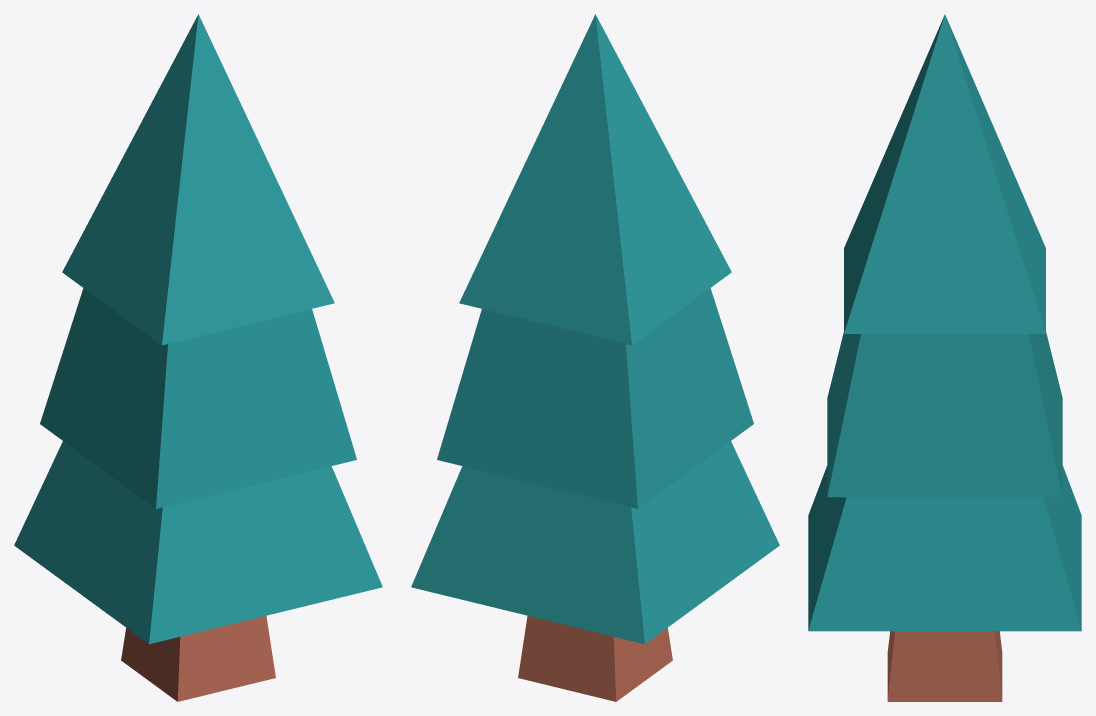
Rendered from tree_pineSmallD.fbx.
3 renders of one model, left to right at view 1: azimuth 30°, elevation 25°; view 2: azimuth 150°, elevation 25°; view 3: azimuth 270°, elevation 25°, orthographic.
Visible parts, largest first — view 1: tree_pineSmallD; view 2: tree_pineSmallD; view 3: tree_pineSmallD.
Part boxes in pixels (box(x1,y1,x2,y2)): tree_pineSmallD: box(14, 14, 382, 701); tree_pineSmallD: box(411, 14, 779, 701); tree_pineSmallD: box(808, 14, 1081, 701).
Size of the model in its own units: 3.57 by 9.56 by 3.57.
